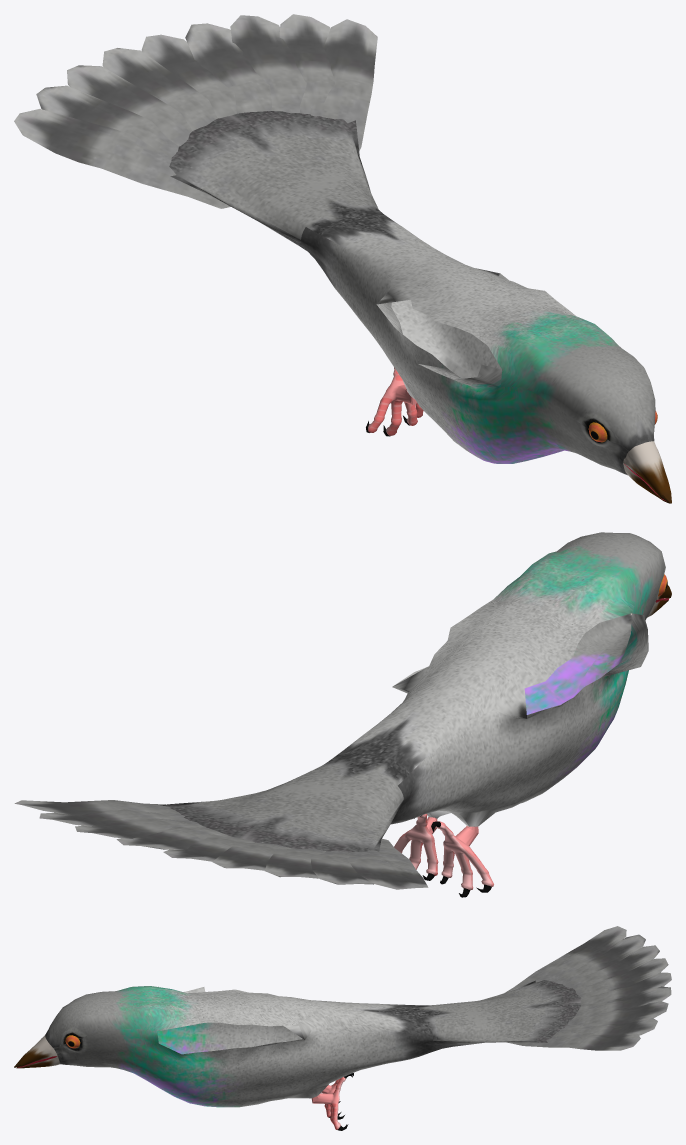
Rendered from tronco.obj.
3 views of the same model, one above another, from view 1: azimuth 30°, elevation 25°; view 2: azimuth 150°, elevation 25°; view 3: azimuth 270°, elevation 25° (orthographic). The views are drawn at different scales.
Parts seen in each view (by area): view 1: paloma_texturizad_Esqueleto_Dan:Paloma_completa_paloma_texturiz; view 2: paloma_texturizad_Esqueleto_Dan:Paloma_completa_paloma_texturiz; view 3: paloma_texturizad_Esqueleto_Dan:Paloma_completa_paloma_texturiz.
Boxes of the visible parts, x1,y1,x2,y2 form: paloma_texturizad_Esqueleto_Dan:Paloma_completa_paloma_texturiz: (14, 14, 671, 503); paloma_texturizad_Esqueleto_Dan:Paloma_completa_paloma_texturiz: (14, 532, 671, 897); paloma_texturizad_Esqueleto_Dan:Paloma_completa_paloma_texturiz: (14, 926, 671, 1130).
Size of the model in its own units: 1.13 by 0.6373 by 2.6.
1 material, 1 textured.
